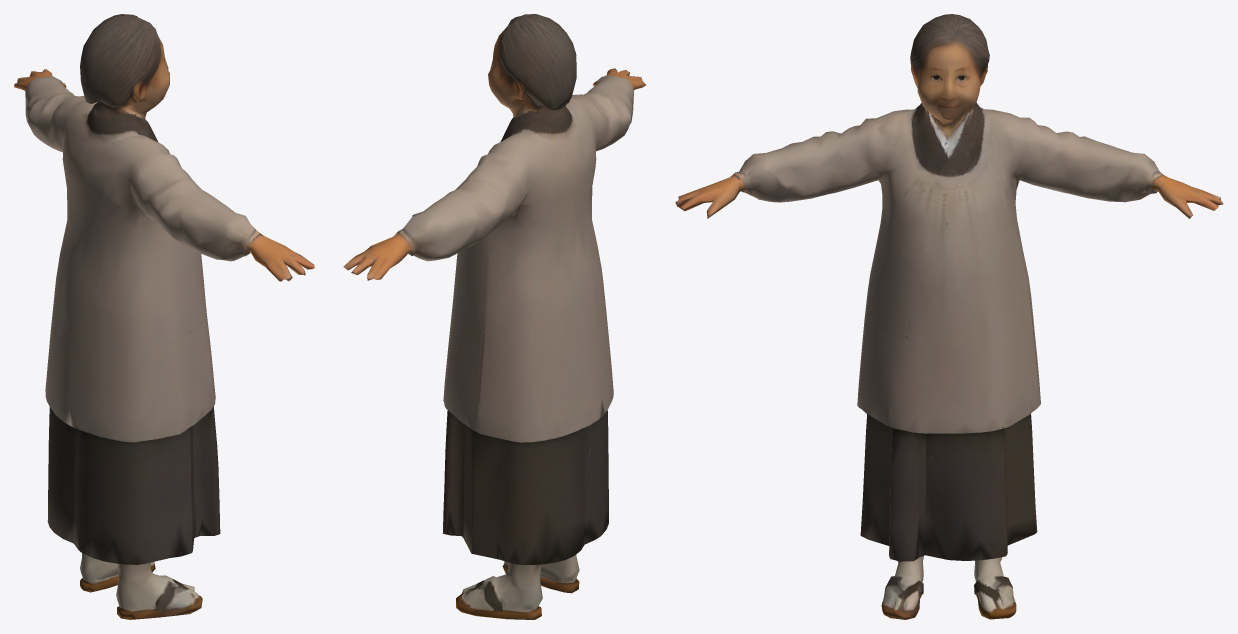
The model's file is human2.glb.
The picture shows the model from 3 angles, left to right: view 1: azimuth 30°, elevation 25°; view 2: azimuth 150°, elevation 25°; view 3: azimuth 270°, elevation 25°; orthographic projection.
Visible parts, largest first — view 1: tripo_node_ddaf3b0f-865a-49e7-9c6e-d46246d0c72e; view 2: tripo_node_ddaf3b0f-865a-49e7-9c6e-d46246d0c72e; view 3: tripo_node_ddaf3b0f-865a-49e7-9c6e-d46246d0c72e.
Boxes of the visible parts, x1,y1,x2,y2 form: tripo_node_ddaf3b0f-865a-49e7-9c6e-d46246d0c72e: (14, 14, 314, 619); tripo_node_ddaf3b0f-865a-49e7-9c6e-d46246d0c72e: (343, 14, 645, 619); tripo_node_ddaf3b0f-865a-49e7-9c6e-d46246d0c72e: (675, 14, 1223, 619).
Bounding box in the file's own units: 0.2477 × 0.9994 × 0.8585.
1 material, 1 textured.
